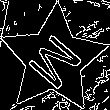M_SE: (21, 25, 87, 93)
